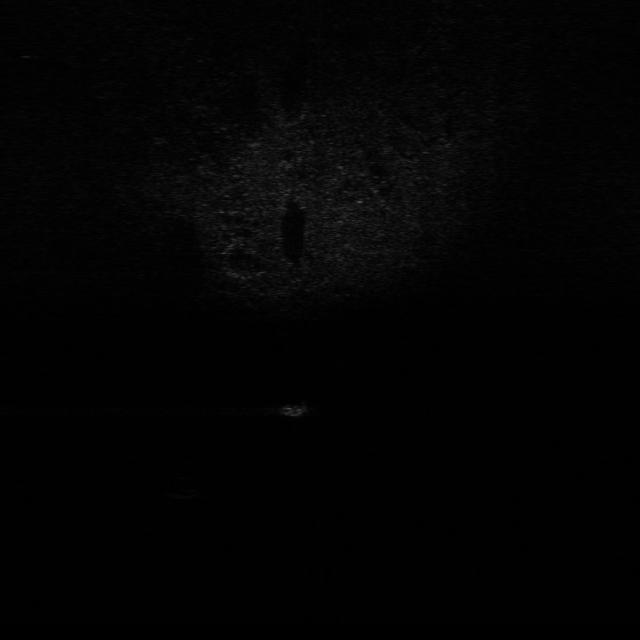ball: (164, 475, 204, 499)
cube: (279, 398, 317, 419)
